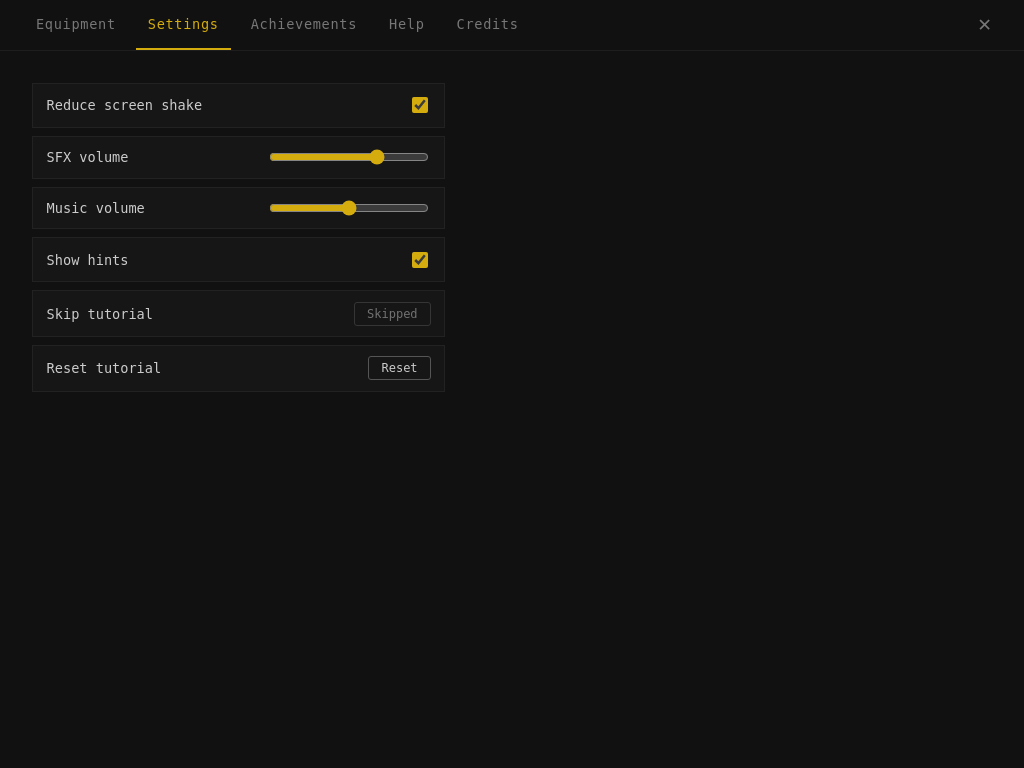
Test: CharacterScreen › hints › the skip button comes back after a reset
Expected: the button with class "skip-tutorial-btn" is disabled, [354,302,431,326]
Click the button with class "reset-tutorial-btn" at (400, 368), box [368,356,431,380]
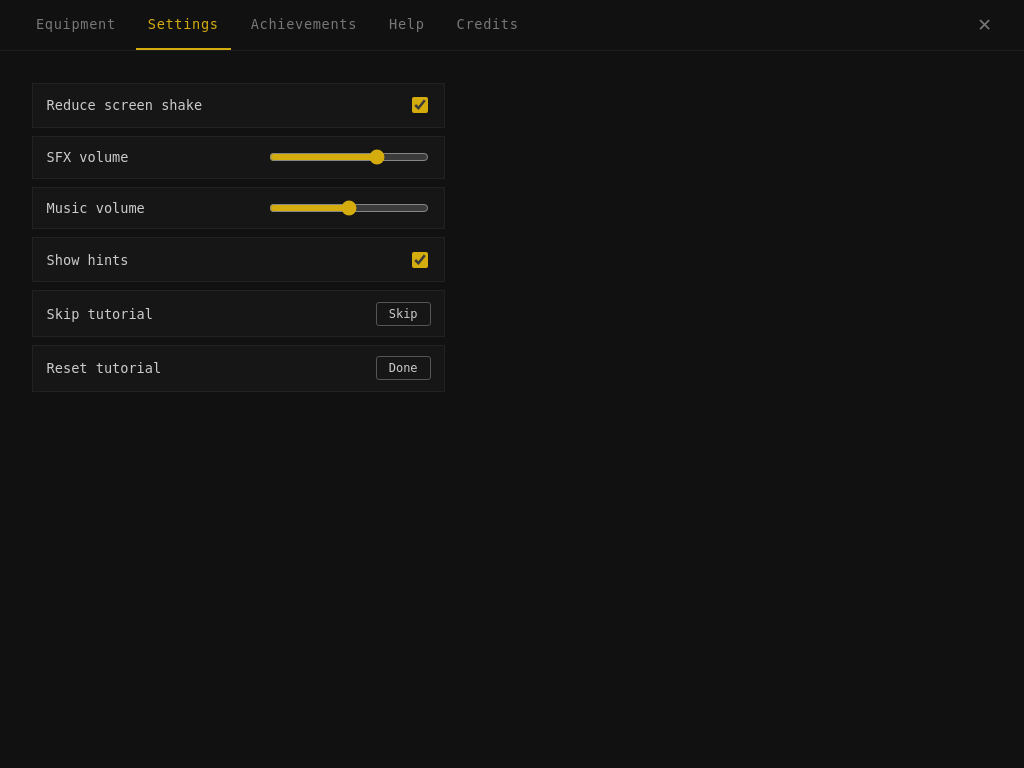
Expected: the button with class "skip-tutorial-btn" is enabled, [376,302,431,326]
Expected: the button with class "skip-tutorial-btn" reads "Skip", [376,302,431,326]
